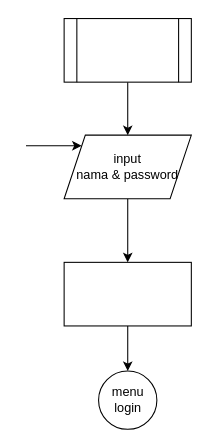
Some shapes in this 210 by 448 pixel diagram are drawn without their labels. The shapes that lost their labels are listed below. From the top down, each one's centre as x and y in pixels, then its label:
(x=127, y=49): register akun
(x=127, y=293): simpan ke array daftar_akun , total_akun++
